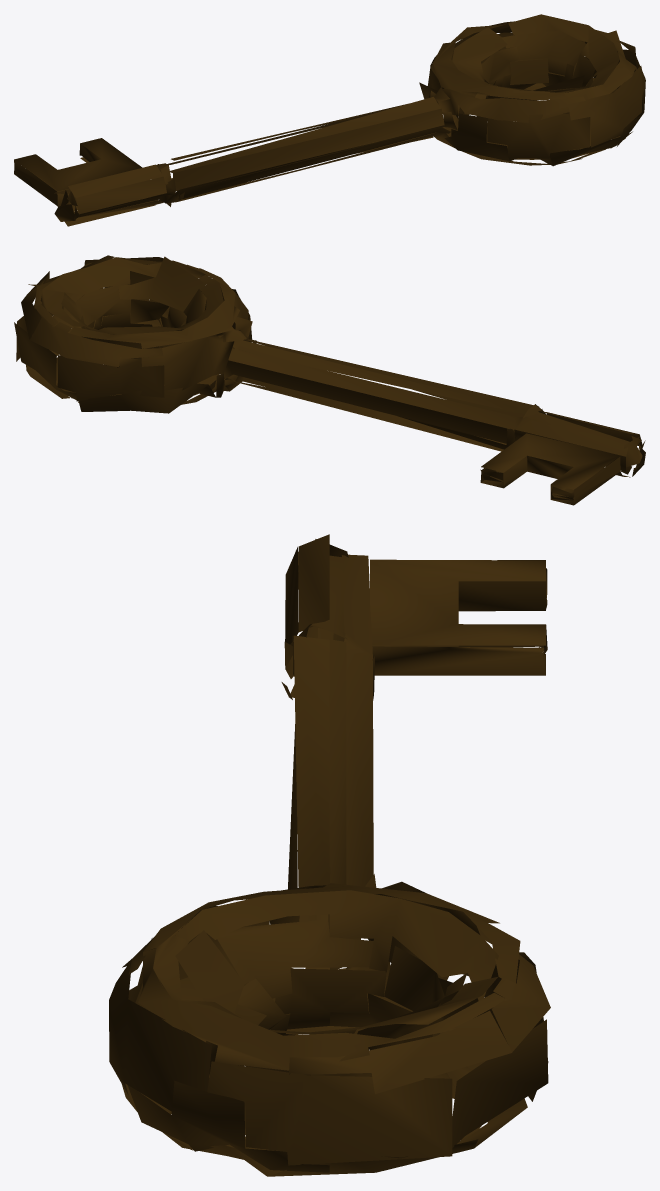
File: key.obj
3 renders of one model, top to bottom at view 1: azimuth 30°, elevation 25°; view 2: azimuth 150°, elevation 25°; view 3: azimuth 270°, elevation 25°, orthographic. The views are drawn at different scales.
Parts seen in each view (by area): view 1: Circle_Material.001_0.001; view 2: Circle_Material.001_0.001; view 3: Circle_Material.001_0.001.
Boxes of the visible parts, x1,y1,x2,y2 form: Circle_Material.001_0.001: (14,14,645,226); Circle_Material.001_0.001: (14,255,645,505); Circle_Material.001_0.001: (109,534,550,1176).
Size of the model in its own units: 188 by 25.75 by 62.37.
